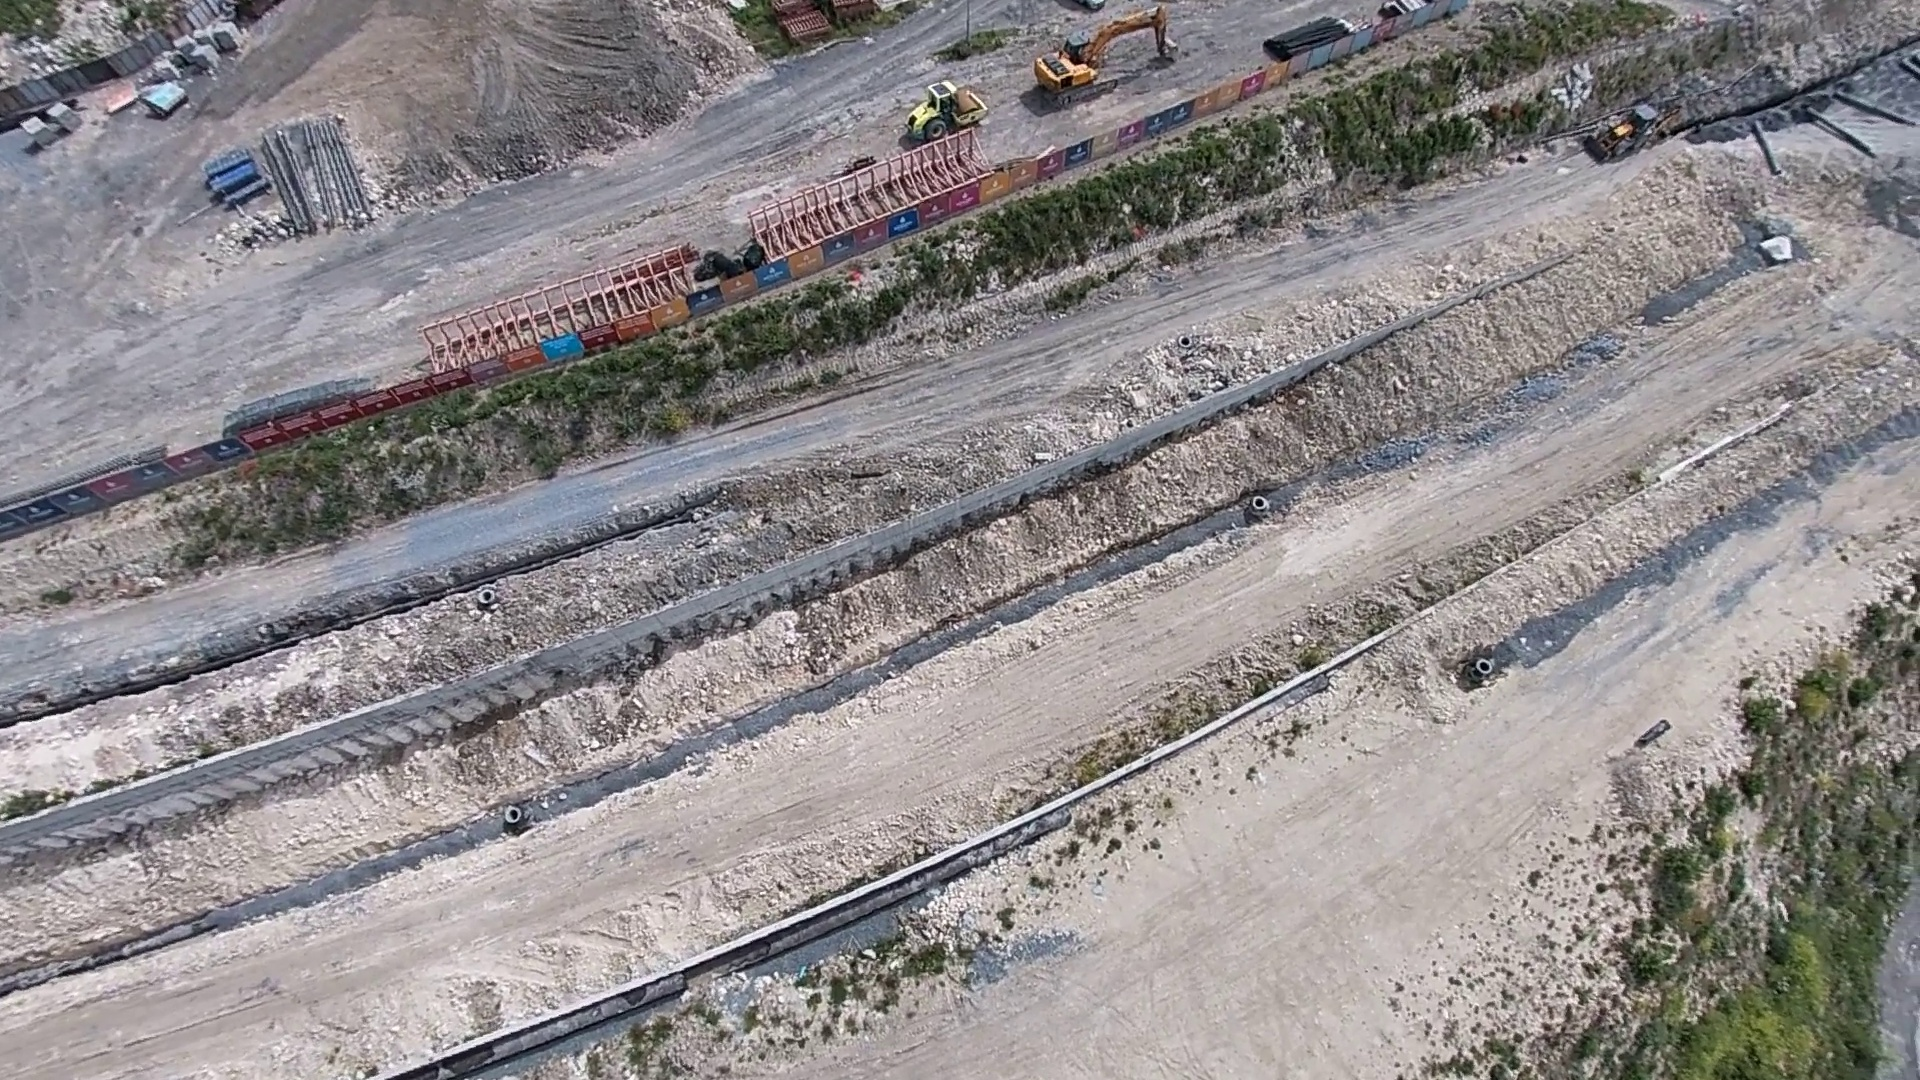ismakinesi: (1031, 5, 1185, 98)
traktor: (1575, 100, 1676, 170), (897, 76, 990, 138)
